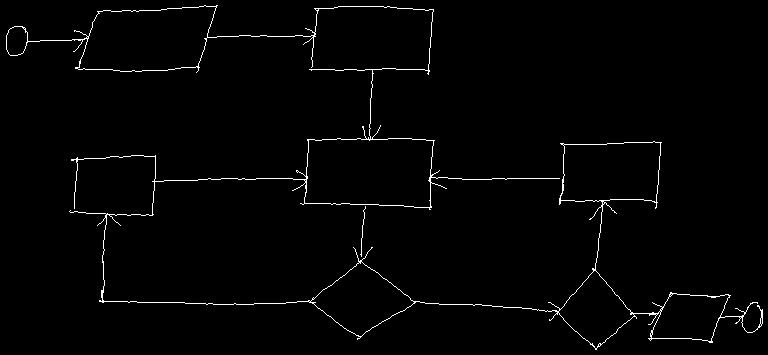arrow: (97, 213, 315, 304), (152, 170, 307, 190), (413, 301, 559, 320), (428, 170, 559, 188), (589, 200, 616, 269), (204, 28, 315, 44), (26, 30, 88, 51), (362, 70, 380, 140), (353, 206, 372, 261), (630, 302, 662, 324), (718, 308, 745, 323)
connection: (741, 302, 762, 332), (6, 26, 27, 55)
data: (75, 5, 217, 72), (648, 292, 730, 342)
decision: (308, 260, 416, 339), (557, 268, 636, 349)
process: (300, 138, 434, 209), (309, 6, 433, 74), (559, 141, 661, 208), (69, 155, 155, 215)
